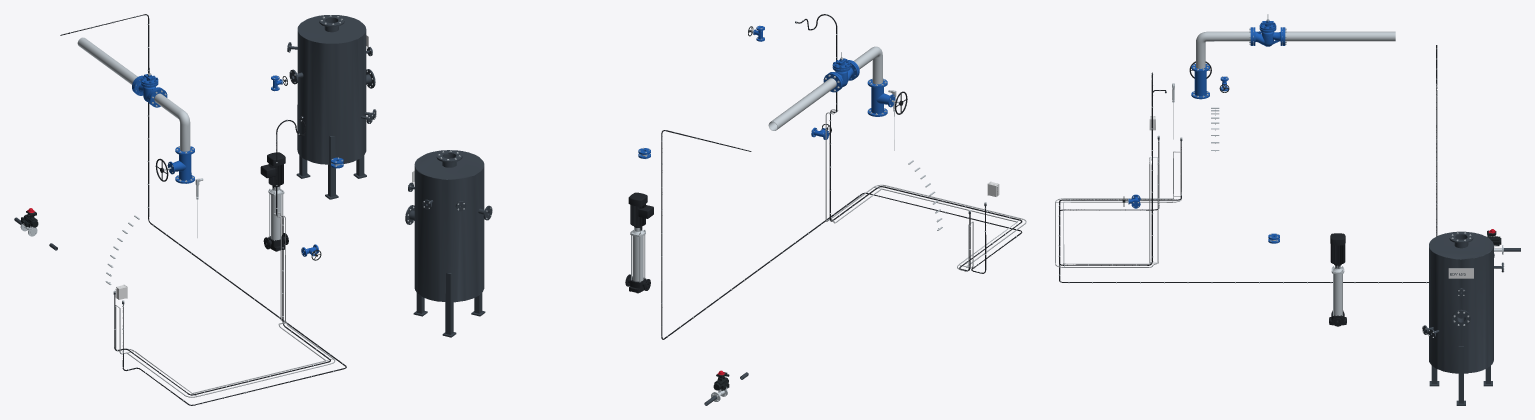
The model's file is s4000-3-CplM7Rb5.glb.
3 renders of one model, left to right at view 1: azimuth 30°, elevation 25°; view 2: azimuth 150°, elevation 25°; view 3: azimuth 270°, elevation 25°, orthographic. The views are drawn at different scales.
Parts seen in each view (by area): view 1: separator_bdv60_5 / dark, cables / zinc, mod_direct_drive_cable / black, wiring_pressure_switch_3 / black, steam_rise / steel, steam_delivery / steel, steam_manual / blue, pump_2 CAD solid 15, gpz CAD solid 0, pump_2 CAD solid 2, bcv7432 / bcv7432_0.npz; view 2: separator_bdv60_5 / dark, mod_direct_drive_cable / black, cables / zinc, wiring_pressure_switch_3 / black, steam_delivery / steel, pump_2 CAD solid 15, steam_manual / blue, steam_rise / steel; view 3: separator_bdv60_5 / dark, cables / zinc, steam_delivery / steel, mod_direct_drive_cable / black, wiring_pressure_switch_3 / black, steam_rise / steel, gpz CAD solid 0, pump_2 CAD solid 15, steam_manual / blue.
Part boxes in pixels (left/top/right/bottom): separator_bdv60_5 / dark: left=287, top=15, right=376, bottom=199; cables / zinc: left=115, top=212, right=335, bottom=397; mod_direct_drive_cable / black: left=60, top=14, right=346, bottom=405; wiring_pressure_switch_3 / black: left=114, top=117, right=330, bottom=395; steam_rise / steel: left=154, top=93, right=190, bottom=151; steam_delivery / steel: left=77, top=37, right=137, bottom=84; steam_manual / blue: left=167, top=146, right=194, bottom=183; pump_2 CAD solid 15: left=260, top=152, right=285, bottom=186; gpz CAD solid 0: left=133, top=67, right=161, bottom=104; pump_2 CAD solid 2: left=271, top=195, right=281, bottom=240; bcv7432 / bcv7432_0.npz: left=20, top=208, right=38, bottom=236; separator_bdv60_5 / dark: left=405, top=150, right=492, bottom=337; mod_direct_drive_cable / black: left=661, top=130, right=1022, bottom=339; cables / zinc: left=825, top=109, right=1026, bottom=271; wiring_pressure_switch_3 / black: left=796, top=14, right=1022, bottom=270; steam_delivery / steel: left=768, top=78, right=836, bottom=130; pump_2 CAD solid 15: left=628, top=192, right=653, bottom=227; steam_manual / blue: left=867, top=78, right=895, bottom=116; steam_rise / steel: left=853, top=46, right=882, bottom=84; separator_bdv60_5 / dark: left=1422, top=231, right=1503, bottom=405; cables / zinc: left=1055, top=151, right=1181, bottom=267; steam_delivery / steel: left=1285, top=31, right=1395, bottom=41; mod_direct_drive_cable / black: left=1059, top=45, right=1437, bottom=282; wiring_pressure_switch_3 / black: left=1059, top=72, right=1181, bottom=265; steam_rise / steel: left=1196, top=31, right=1250, bottom=68; gpz CAD solid 0: left=1253, top=14, right=1282, bottom=46; pump_2 CAD solid 15: left=1330, top=233, right=1345, bottom=265; steam_manual / blue: left=1191, top=63, right=1209, bottom=99.
Bounding box in the file's own units: 5.36 × 3.18 × 5.47.
